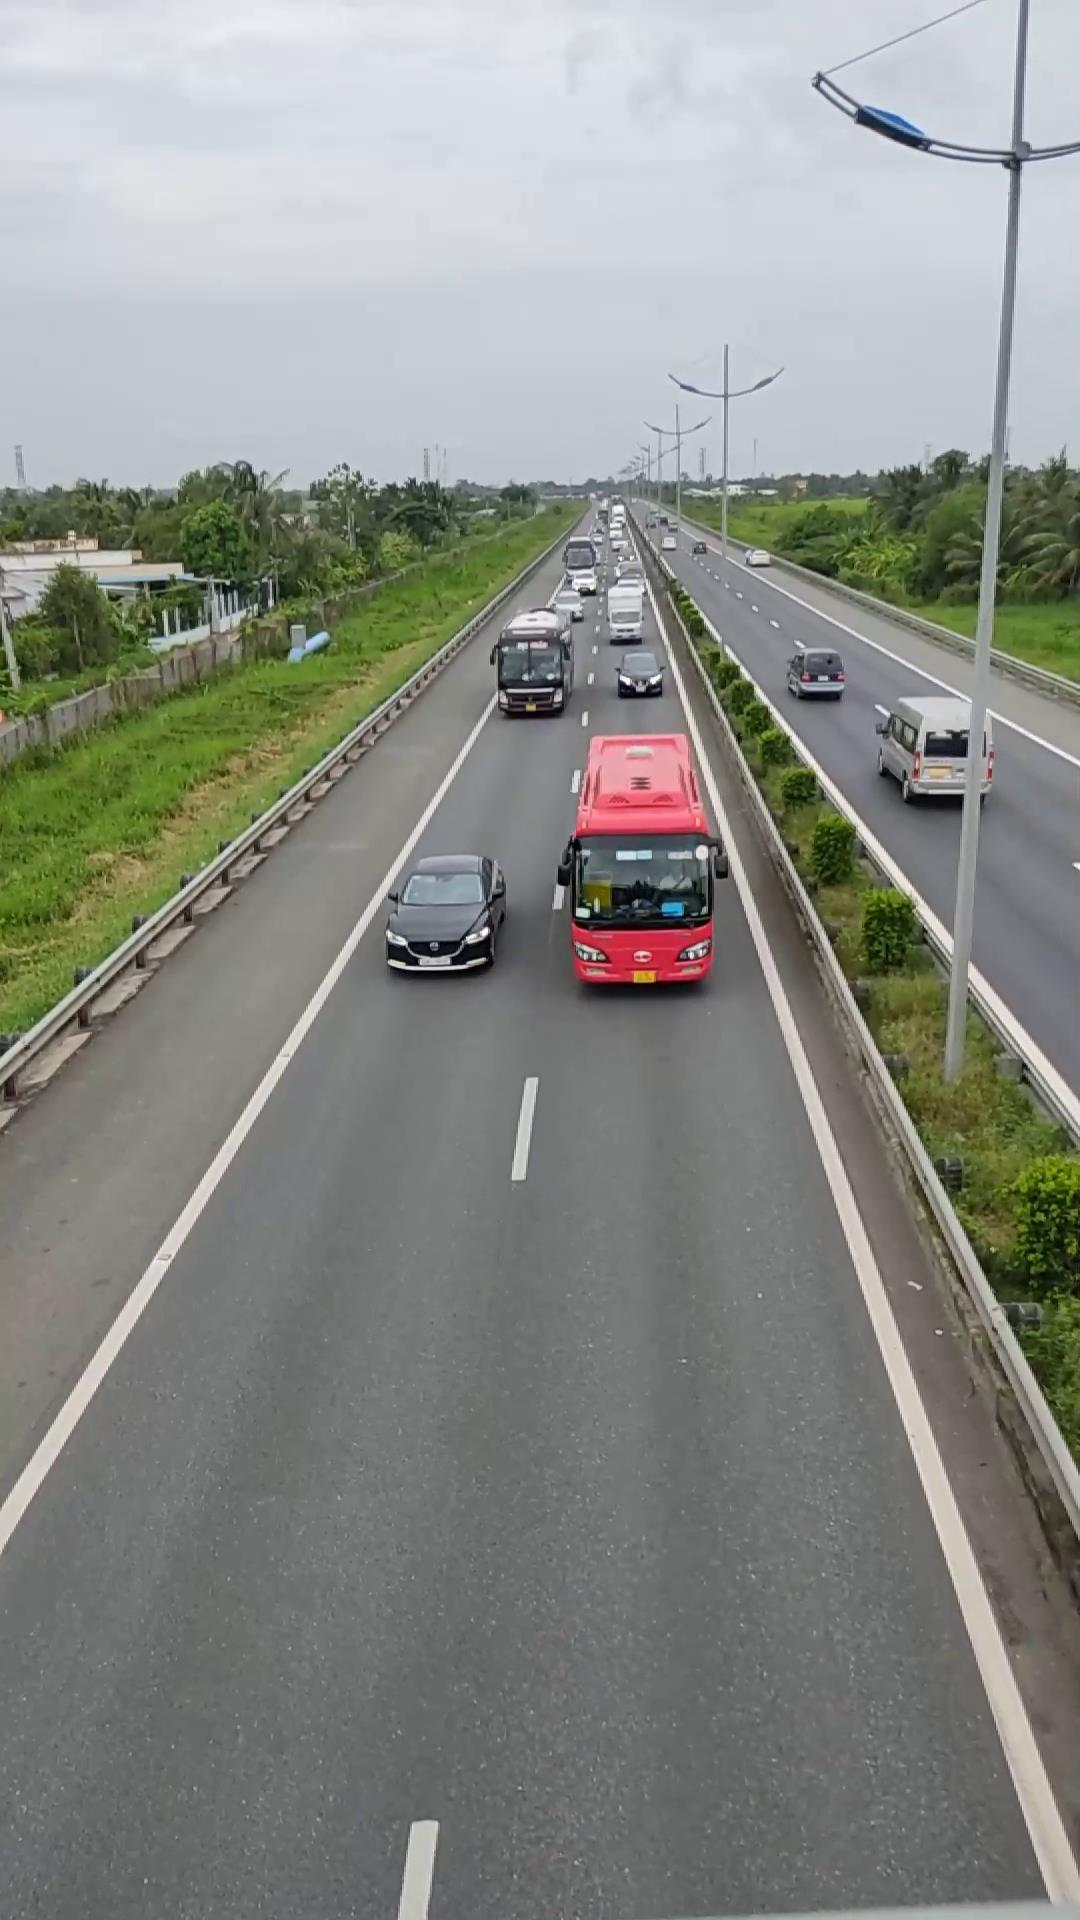bus: (560, 731, 721, 1001), (492, 609, 571, 716)
car: (382, 851, 506, 975), (873, 688, 989, 804)
